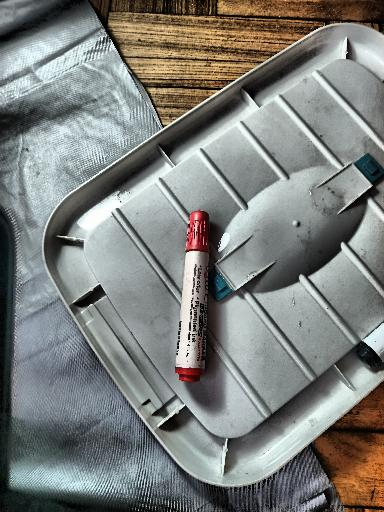marcador rojo: (175, 211, 210, 382)
